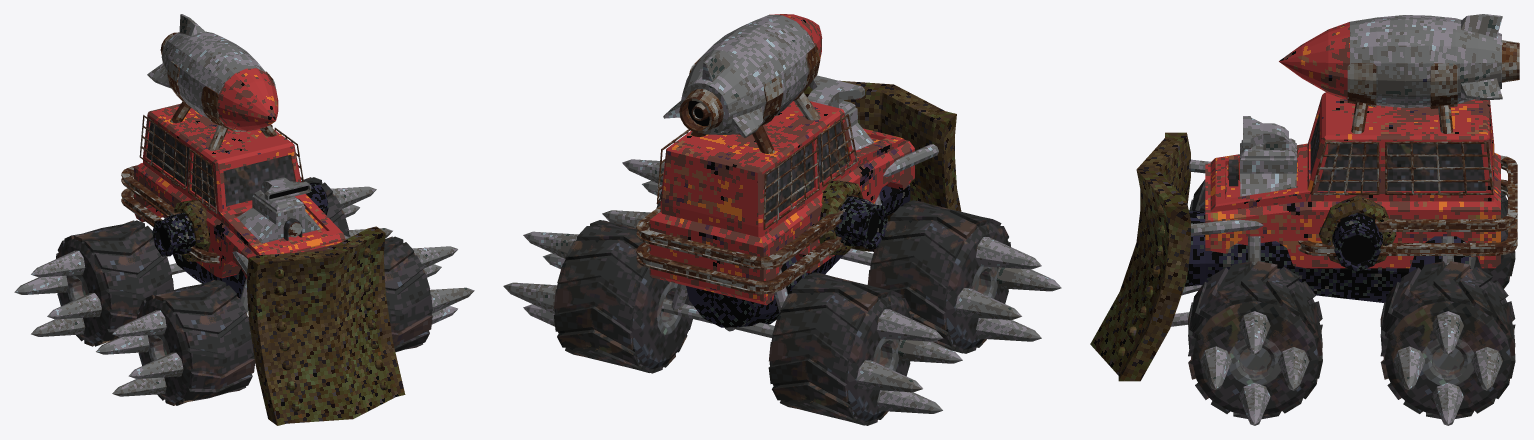
File: Player truck w. upgrades_2.fbx
The picture shows the model from 3 angles, left to right: view 1: azimuth 30°, elevation 25°; view 2: azimuth 150°, elevation 25°; view 3: azimuth 270°, elevation 25°; orthographic projection. The views are drawn at different scales.
Visible parts, largest first — view 1: Plane, Cube, Cylinder, Cylinder.001, Cylinder.006, Cylinder.002, Cylinder.012, Cylinder.011, Cylinder.003, Cube.001, Cylinder.013, Cylinder.007 (+5 smaller); view 2: Cube, Cylinder.001, Cylinder.005, Cylinder, Cylinder.006, Plane, Cylinder.011, Cylinder.012, Cylinder.017, Cylinder.003, Plane.001, Plane.002 (+6 smaller); view 3: Cube, Cylinder.006, Cylinder.002, Cylinder.005, Plane, Cylinder.017, Cylinder.004, Cylinder.013, Cylinder.014, Cube.001, Cylinder.007, Plane.001 (+4 smaller).
Part boxes in pixels (<box>): Plane: <box>247,226,405,425</box>; Cube: <box>134,103,345,279</box>; Cylinder: <box>137,280,255,405</box>; Cylinder.001: <box>56,220,173,346</box>; Cylinder.006: <box>147,14,278,130</box>; Cylinder.002: <box>384,236,432,352</box>; Cylinder.012: <box>96,310,183,396</box>; Cylinder.011: <box>14,250,101,336</box>; Cylinder.003: <box>152,200,210,261</box>; Cube.001: <box>139,115,303,213</box>; Cylinder.013: <box>412,246,474,324</box>; Cylinder.007: <box>167,61,277,150</box>; Cube: <box>649,75,914,305</box>; Cylinder.001: <box>768,272,912,425</box>; Cylinder.005: <box>553,220,693,373</box>; Cylinder: <box>867,200,1010,353</box>; Cylinder.006: <box>663,14,822,137</box>; Plane: <box>804,80,961,251</box>; Cylinder.011: <box>856,309,962,413</box>; Cylinder.012: <box>955,237,1061,341</box>; Cylinder.017: <box>686,184,910,327</box>; Cylinder.003: <box>819,180,887,255</box>; Plane.001: <box>636,195,858,269</box>; Plane.002: <box>636,236,843,294</box>; Cube: <box>1205,92,1500,268</box>; Cylinder.006: <box>1279,14,1519,107</box>; Cylinder.002: <box>1188,261,1322,419</box>; Cylinder.005: <box>1380,261,1515,418</box>; Plane: <box>1090,132,1190,381</box>; Cylinder.017: <box>1184,210,1470,302</box>; Cylinder.004: <box>1319,195,1396,271</box>; Cylinder.013: <box>1200,311,1309,425</box>; Cylinder.014: <box>1393,311,1502,425</box>; Cube.001: <box>1310,141,1493,195</box>; Cylinder.007: <box>1347,63,1457,133</box>; Plane.001: <box>1334,155,1517,231</box>.
Bounding box in the file's own units: 738 × 578 × 669.
Materials: 8 (7 with a texture image).
